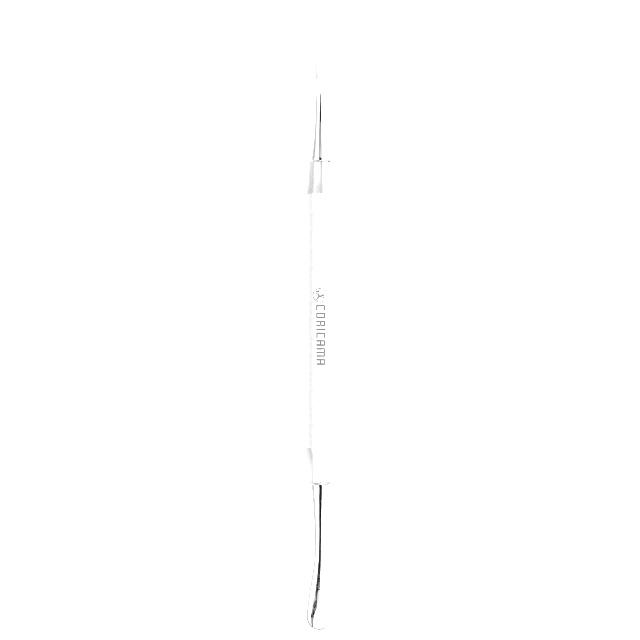elevador: (305, 75, 329, 629)
